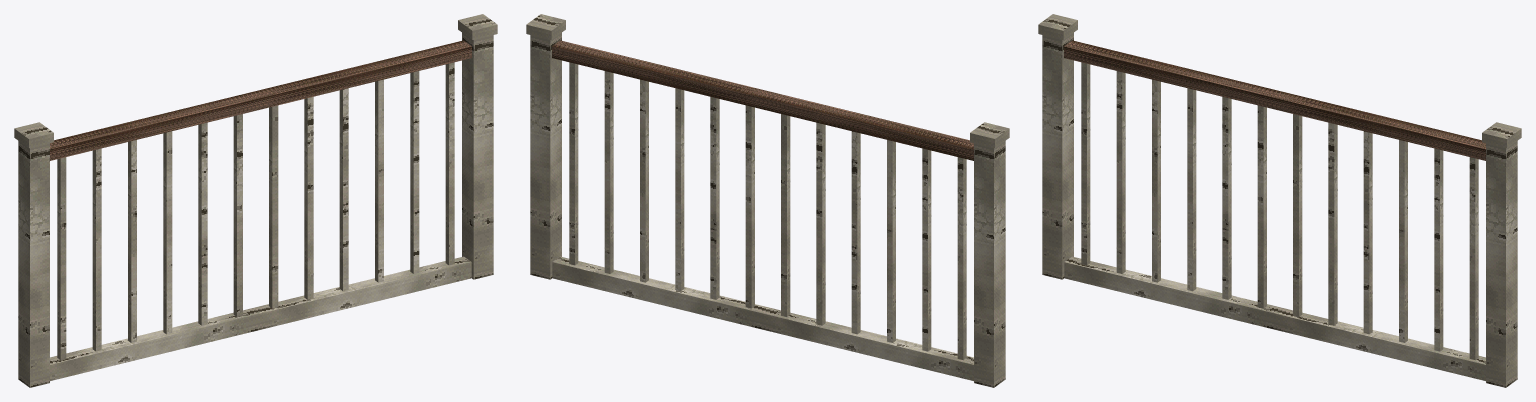
Rendered from house_railing.glb.
3 views of the same model, side by side, from view 1: azimuth 30°, elevation 25°; view 2: azimuth 150°, elevation 25°; view 3: azimuth 330°, elevation 25° (orthographic).
Parts seen in each view (by area): view 1: house_railing; view 2: house_railing; view 3: house_railing.
Part boxes in pixels (<box>): house_railing: <box>14,14,497,387</box>; house_railing: <box>526,14,1009,387</box>; house_railing: <box>1038,14,1521,387</box>.
Bounding box in the file's own units: 2.11 × 1.08 × 0.114.
Materials: 2 (2 with a texture image).
